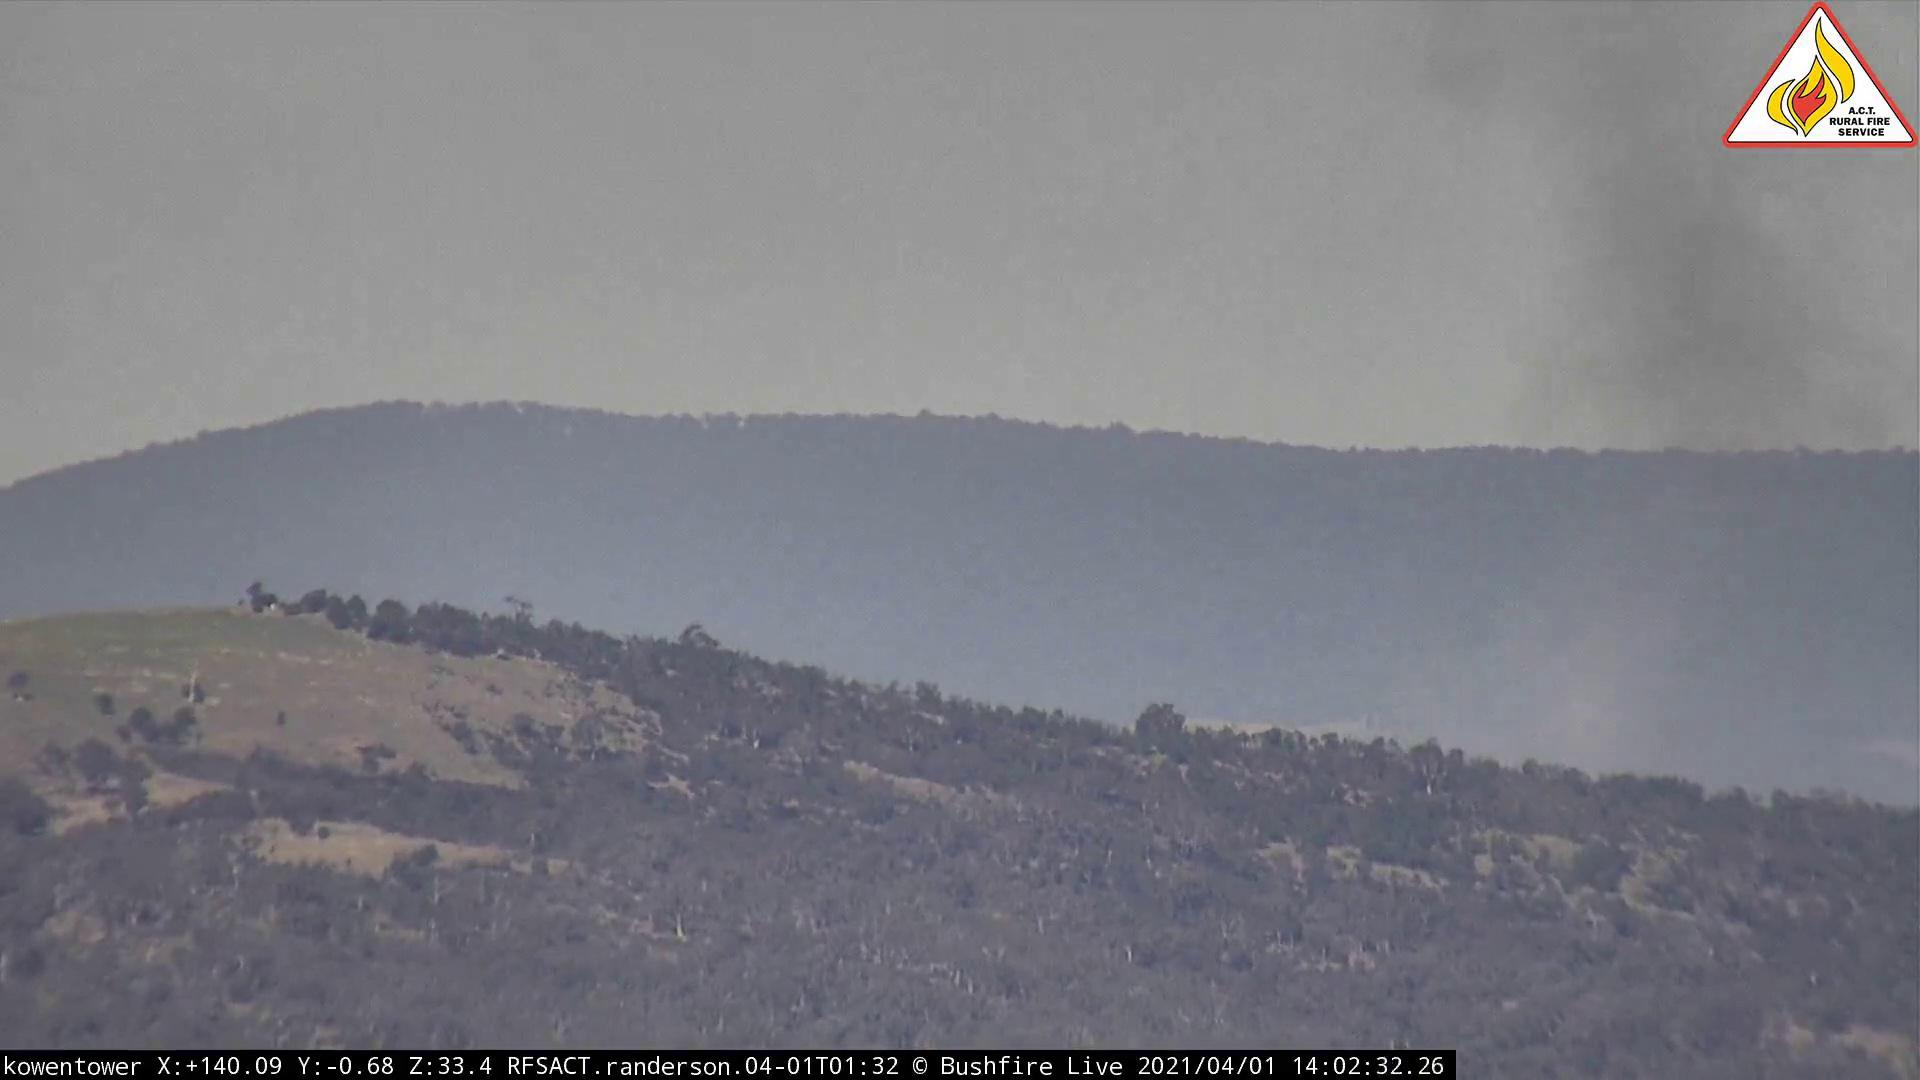Smoke: (1324, 3, 1916, 872)
